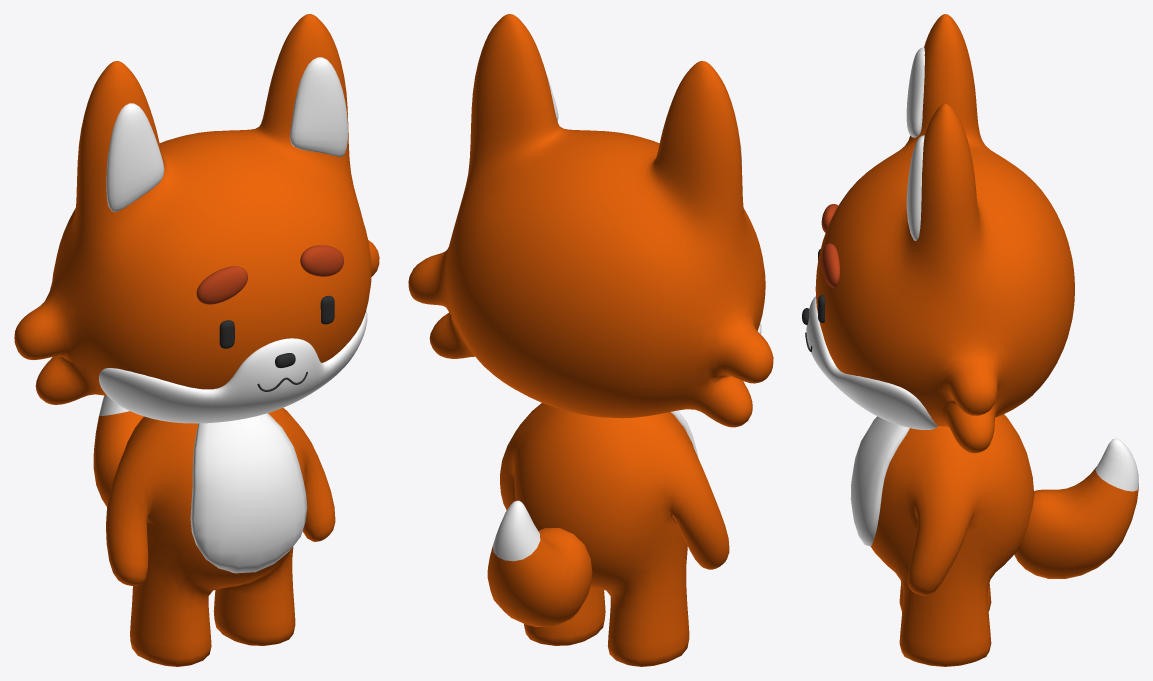
Rendered from renard2.fbx.
The picture shows the model from 3 angles, left to right: view 1: azimuth 30°, elevation 25°; view 2: azimuth 150°, elevation 25°; view 3: azimuth 270°, elevation 25°; orthographic projection. The views are drawn at different scales.
Parts seen in each view (by area): view 1: Tete, Corps, Ventre, Barbe, Oreille_Left, Oreille_Right, Queue, Sourcil_Left, Sourcil_Right; view 2: Tete, Corps, Queue; view 3: Tete, Corps, Queue, Barbe, Ventre, Oreille_Right, Oreille_Left, Sourcil_Right.
Part boxes in pixels (left/top/right/bottom): Tete: left=14, top=14, right=379, bottom=404; Corps: left=106, top=408, right=335, bottom=666; Ventre: left=190, top=413, right=307, bottom=573; Barbe: left=99, top=310, right=367, bottom=423; Oreille_Left: left=106, top=103, right=164, bottom=211; Oreille_Right: left=290, top=57, right=347, bottom=156; Queue: left=93, top=395, right=143, bottom=506; Sourcil_Left: left=196, top=266, right=247, bottom=304; Sourcil_Right: left=300, top=245, right=343, bottom=276; Tete: left=408, top=14, right=773, bottom=427; Corps: left=500, top=403, right=729, bottom=666; Queue: left=487, top=500, right=592, bottom=627; Tete: left=815, top=14, right=1074, bottom=453; Corps: left=870, top=414, right=1034, bottom=666; Queue: left=1014, top=438, right=1138, bottom=578; Barbe: left=806, top=296, right=937, bottom=429; Ventre: left=850, top=416, right=909, bottom=546; Oreille_Right: left=906, top=135, right=924, bottom=240; Oreille_Left: left=906, top=47, right=924, bottom=137; Sourcil_Right: left=821, top=243, right=839, bottom=287.
Bounding box in the file's own units: 244 × 393 × 208.
